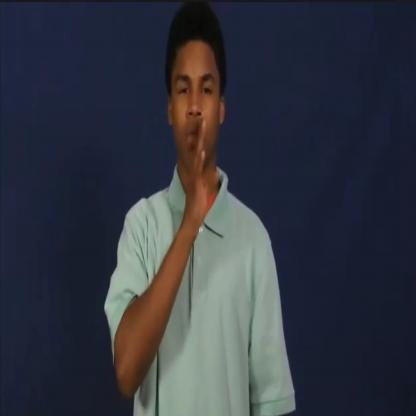Talk: (159, 6, 240, 268)
